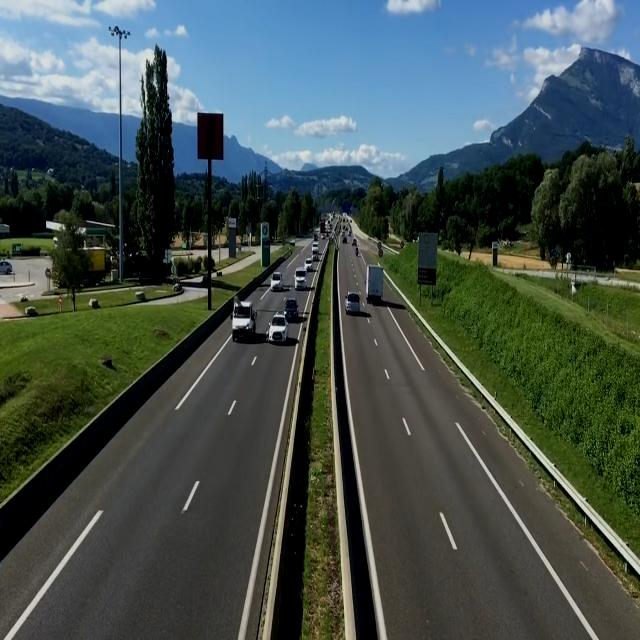Car: (267, 315, 287, 343), (345, 290, 361, 314), (283, 300, 300, 320), (294, 268, 308, 291), (271, 272, 282, 292), (0, 260, 12, 276), (304, 258, 314, 270)
Cycle: (354, 248, 358, 256)
Truck: (231, 300, 258, 342), (364, 265, 384, 303)
Van: (311, 240, 320, 253)
